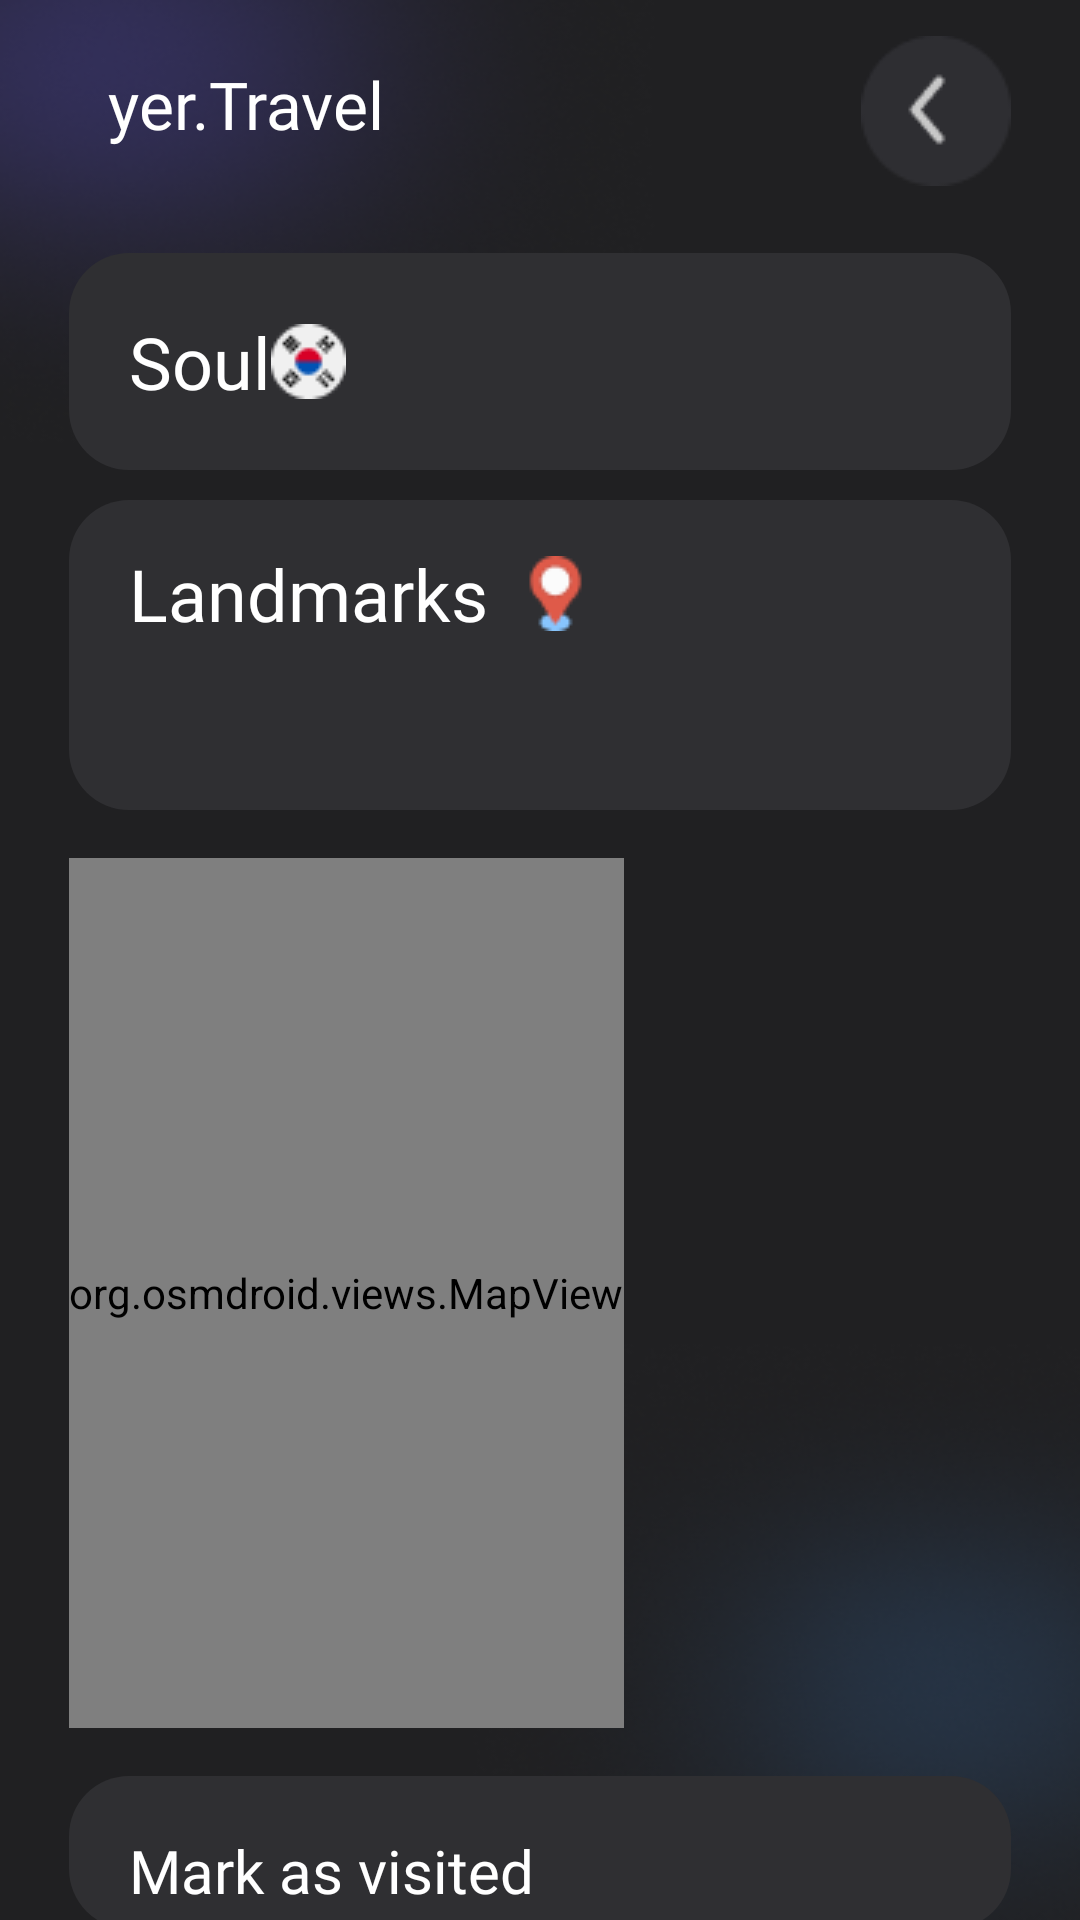

Icons on this 1080x1920 Android screen, each with the point to tap as (x=x, y=y):
Go back: (x=936, y=111)
korea: (x=308, y=361)
